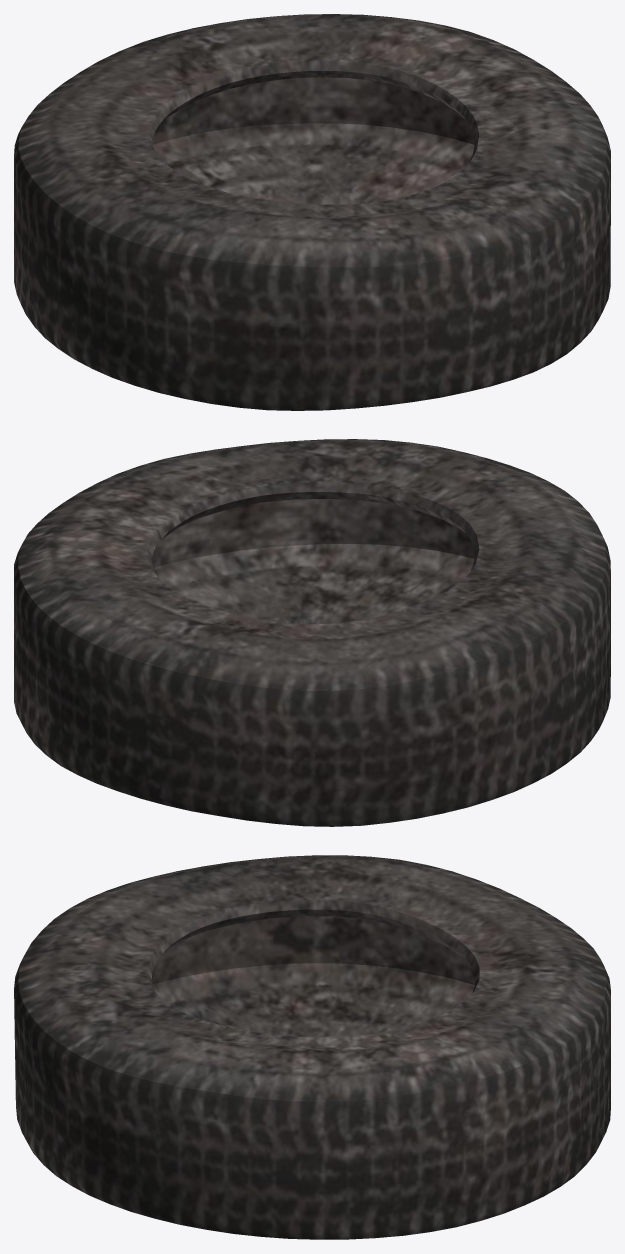
The model's file is dirty_tire_01.glb.
The picture shows the model from 3 angles, top to bottom: view 1: azimuth 30°, elevation 25°; view 2: azimuth 150°, elevation 25°; view 3: azimuth 270°, elevation 25°; orthographic projection. The views are drawn at different scales.
Visible parts, largest first — view 1: dirty_tire_01; view 2: dirty_tire_01; view 3: dirty_tire_01.
Part boxes in pixels (x1,y1,x2,y2): dirty_tire_01: (14,14,610,410); dirty_tire_01: (14,439,610,826); dirty_tire_01: (14,855,610,1239).
Size of what is drawn, in the model's own units: 0.6062 by 0.1989 by 0.62.
Materials: 1 (1 with a texture image).
